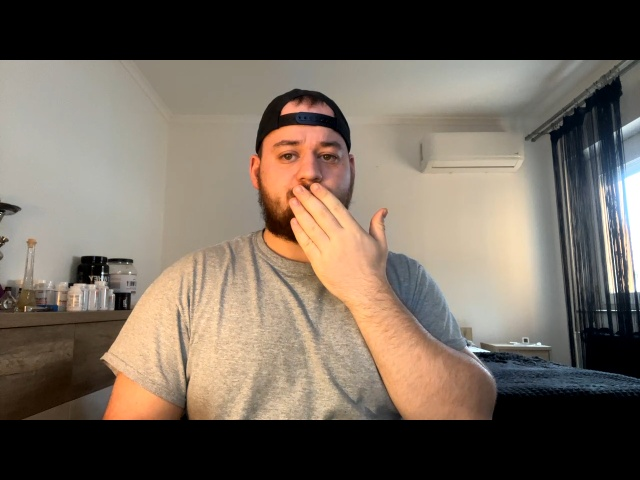ThankYou: (288, 182, 390, 288)
